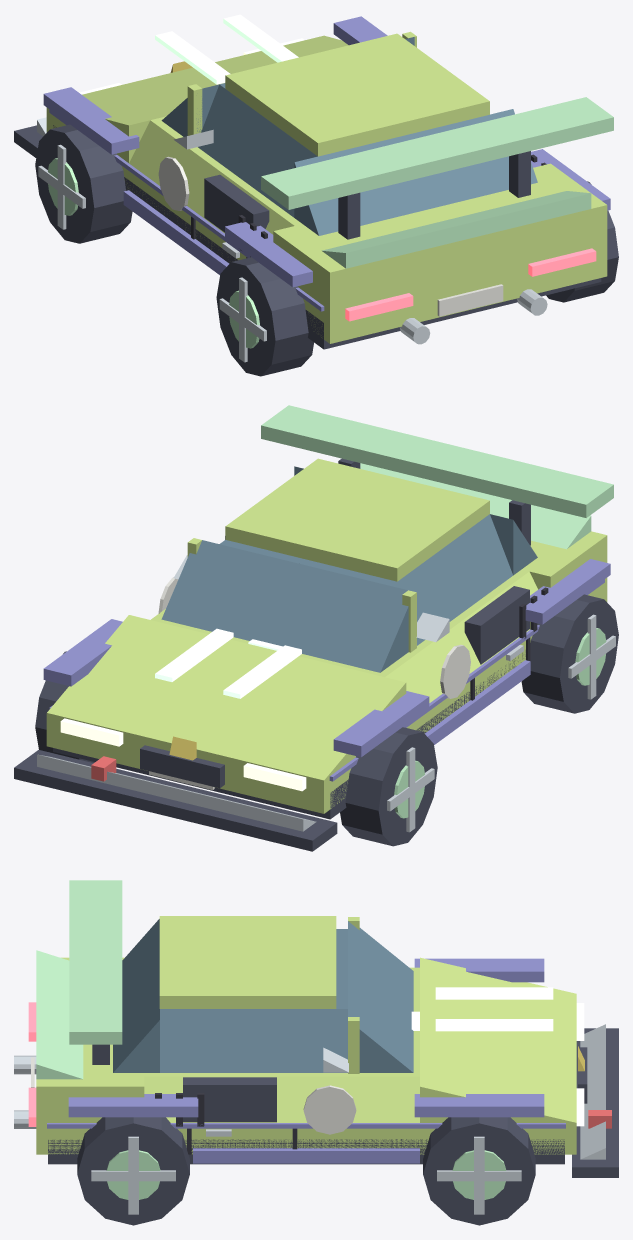
File: pitlane_phantom.glb
3 renders of one model, top to bottom at view 1: azimuth 30°, elevation 25°; view 2: azimuth 150°, elevation 25°; view 3: azimuth 270°, elevation 25°, orthographic. The views are drawn at different scales.
Parts seen in each view (by area): view 1: Roof.282, Tail.082, RearWing.045, Body.282, RearWindow.182, Wheel_RL.242, Wheel_FL.242, Ducktail.061, CabinSideL.079, Nose.079, ShoulderL.079, Arch-1False.158 (+28 smaller); view 2: Nose.079, Windshield.182, Roof.282, RearWing.045, Body.282, Splitter.049, Wheel_FL.242, Wheel_RL.242, CabinSideL.079, Bumper.278, ShoulderL.079, Ducktail.061 (+25 smaller); view 3: Nose.079, Roof.282, CabinSideR.079, RearWing.045, Windshield.182, Wheel_RR.242, Wheel_FR.242, Body.282, ShoulderR.079, RearWindow.182, Ducktail.061, Tail.082 (+22 smaller).
Part boxes in pixels (box(x1,y1,x2,y2)): Roof.282: box(225, 33, 489, 156); Tail.082: box(273, 163, 607, 310); RearWing.045: box(261, 97, 613, 209); Body.282: box(46, 107, 607, 343); RearWindow.182: box(294, 109, 537, 235); Wheel_RL.242: box(216, 257, 313, 376); Wheel_FL.242: box(35, 124, 132, 243); Ducktail.061: box(322, 191, 591, 268); CabinSideL.079: box(198, 84, 317, 217); Nose.079: box(82, 35, 348, 162); ShoulderL.079: box(129, 120, 294, 234); Arch-1False.158: box(43, 87, 139, 154); Nose.079: box(47, 615, 406, 780); Windshield.182: box(161, 540, 408, 672); Roof.282: box(225, 458, 489, 581); RearWing.045: box(261, 405, 613, 517); Body.282: box(46, 577, 607, 813); Splitter.049: box(14, 750, 337, 851); Wheel_FL.242: box(340, 727, 437, 846); Wheel_RL.242: box(521, 594, 618, 713); CabinSideL.079: box(391, 514, 512, 645); Bumper.278: box(37, 754, 316, 831); ShoulderL.079: box(385, 571, 537, 702); Ducktail.061: box(360, 463, 591, 549); Nose.079: box(420, 957, 576, 1122); Roof.282: box(159, 916, 336, 1008); CabinSideR.079: box(160, 1009, 347, 1072); RearWing.045: box(69, 880, 122, 1044); Windshield.182: box(348, 921, 413, 1072); Wheel_RR.242: box(77, 1117, 189, 1225); Wheel_FR.242: box(423, 1117, 535, 1225); Body.282: box(36, 1123, 576, 1154); ShoulderR.079: box(144, 1076, 419, 1122); RearWindow.182: box(113, 919, 159, 1072); Ducktail.061: box(36, 950, 83, 1079); Tail.082: box(36, 957, 144, 1122).
Bounding box in the file's own units: 3.3 × 1.78 × 5.15.
